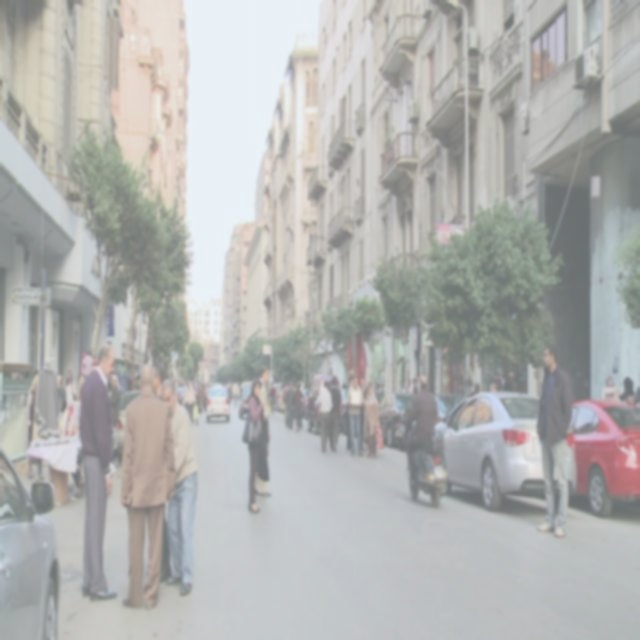pessoa: (118, 361, 178, 612), (76, 340, 121, 604), (158, 376, 200, 600), (532, 341, 574, 540), (152, 360, 174, 583), (241, 376, 265, 514), (106, 367, 142, 452), (24, 366, 46, 484), (254, 364, 273, 499), (406, 374, 439, 442), (69, 373, 86, 503), (362, 383, 384, 461), (312, 376, 333, 454), (600, 370, 639, 410), (346, 372, 364, 457), (328, 376, 341, 454), (488, 366, 521, 396), (60, 368, 76, 427), (453, 379, 480, 412), (190, 374, 210, 414), (182, 377, 197, 427), (284, 378, 297, 431), (55, 371, 67, 422), (346, 374, 354, 450), (401, 370, 422, 398), (294, 380, 305, 432), (226, 378, 240, 406), (268, 380, 278, 416), (174, 377, 184, 407), (357, 376, 369, 400), (281, 380, 290, 408), (278, 381, 284, 407)
